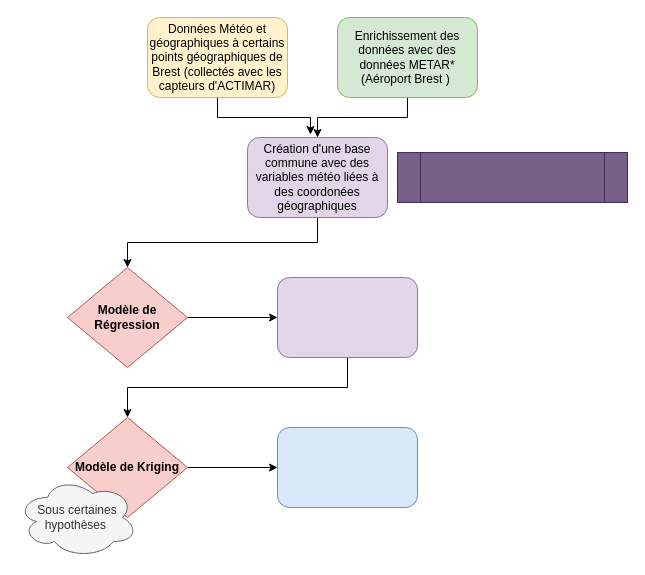
This 645x575 diagram has some shape labels left out. Each missing label, with the centre of its shape:
Ajout de la variables liées à l'environnement : terrestre VS mer: (512,177)
Extrapolation de la prédiction de la brume dans l'ensemble du champ: (347,467)
Prédiction de la brume terrestre et la brume de mer: (347,317)
